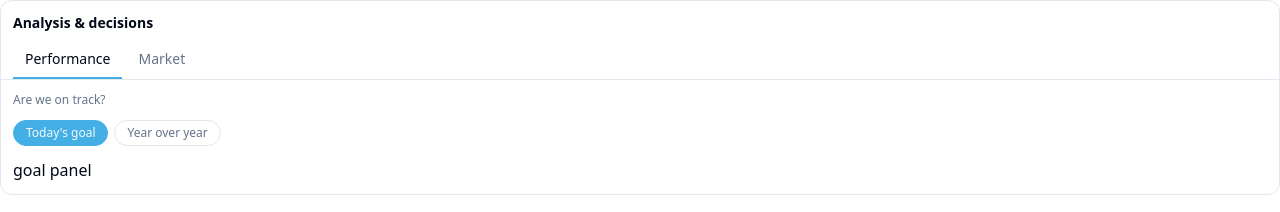
it: RevenueInsightsHub › groups analyses into sections and mounts only the open item
The image size is (1280, 212).
Expected: the text "goal panel" is shown, [13, 159, 92, 181]
Expected: the text "yoy panel" is not shown
Click the button "Year over year".
click(168, 133)  # box [114, 120, 221, 146]
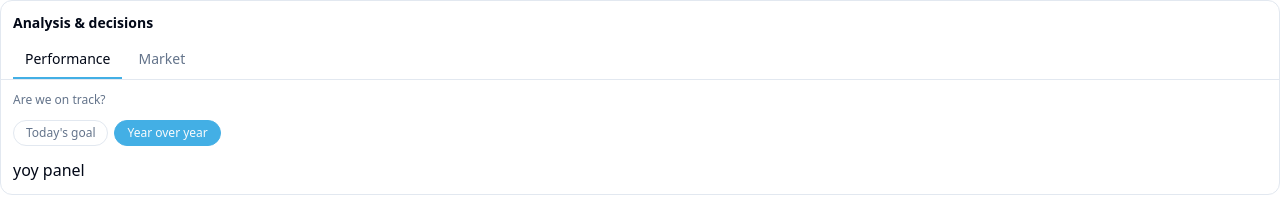
Result: the text "yoy panel" is shown at [13, 159, 85, 181]
Click the tab "Market".
click(162, 60)  # box [126, 41, 197, 79]
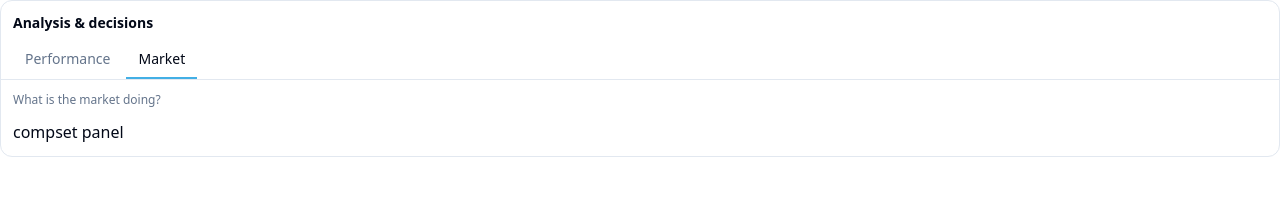
Result: the text "compset panel" is shown at [13, 121, 124, 143]
Result: the text "What is the market doing?" is shown at [13, 91, 161, 108]
